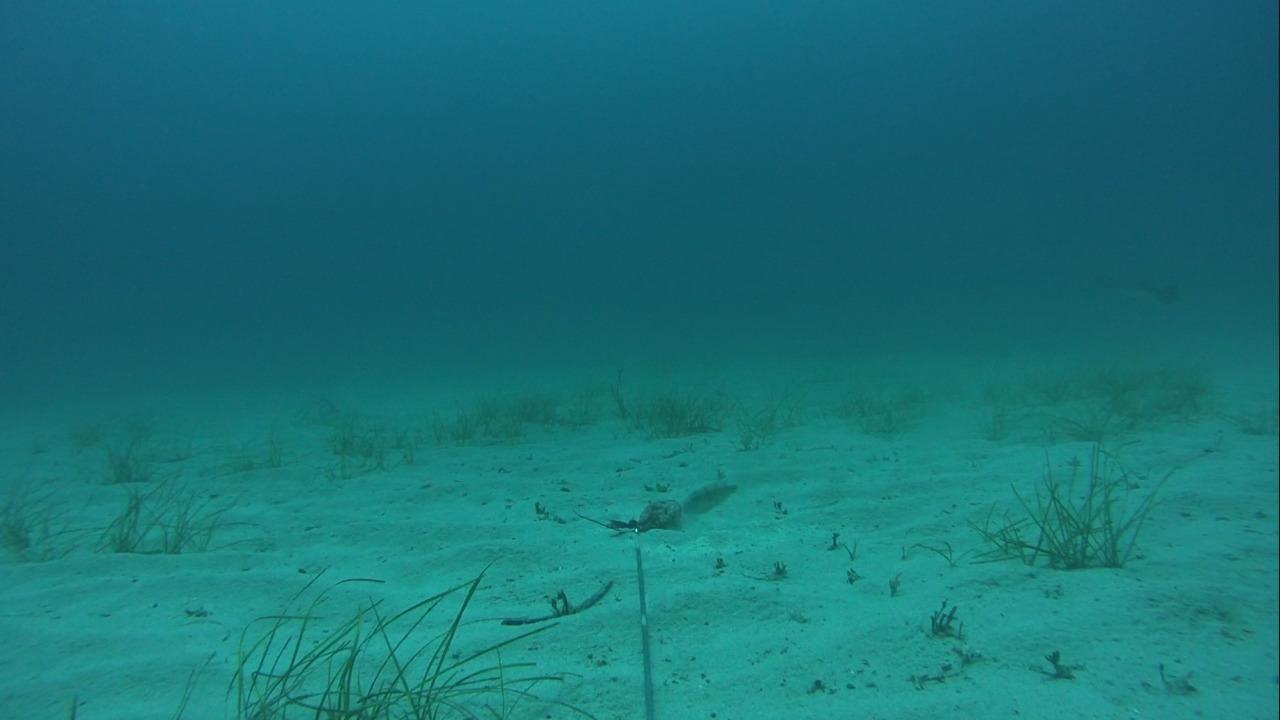myliobatis: (1045, 265, 1182, 309)
raor: (677, 475, 745, 523)
